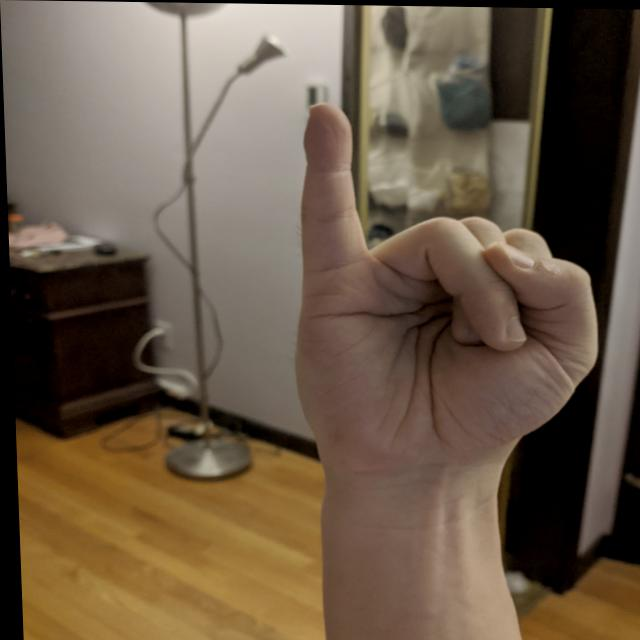I: (278, 92, 612, 490)
